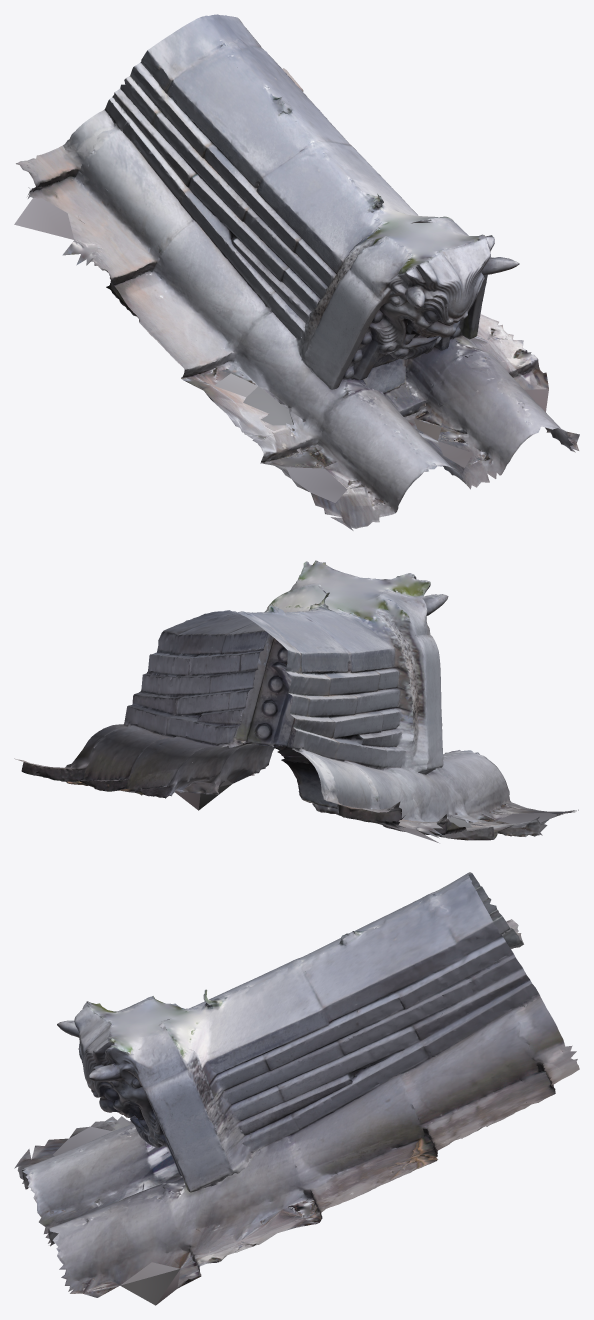
The model's file is source-objaverse.glb.
3 views of the same model, one above another, from view 1: azimuth 30°, elevation 25°; view 2: azimuth 150°, elevation 25°; view 3: azimuth 270°, elevation 25° (orthographic). The views are drawn at different scales.
Parts seen in each view (by area): view 1: Object_2; view 2: Object_2; view 3: Object_2.
Part boxes in pixels (box(x1,y1,x2,y2)): Object_2: box(14, 14, 579, 530); Object_2: box(14, 560, 578, 843); Object_2: box(14, 872, 579, 1305).
Size of the model in its own units: 39.1 by 32.3 by 49.
Materials: 1 (1 with a texture image).
